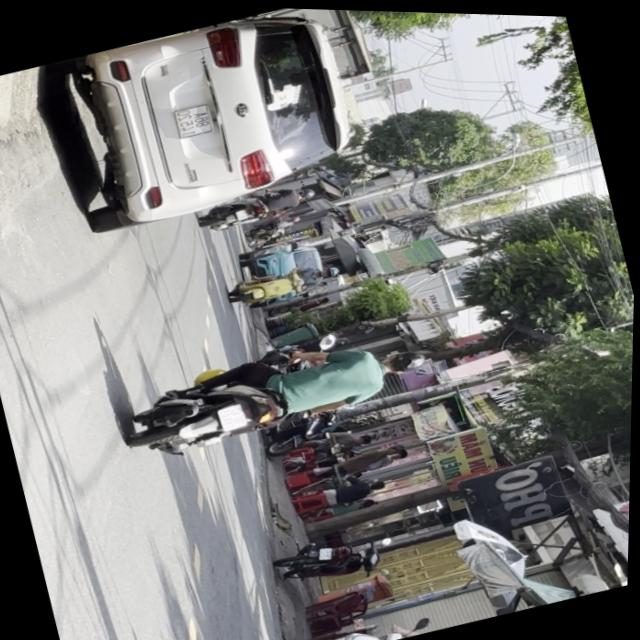licenseplate: (118, 309, 440, 471), (257, 589, 482, 640)
motorcyclist: (381, 342, 429, 377)
nohelmet: (218, 400, 251, 430)
